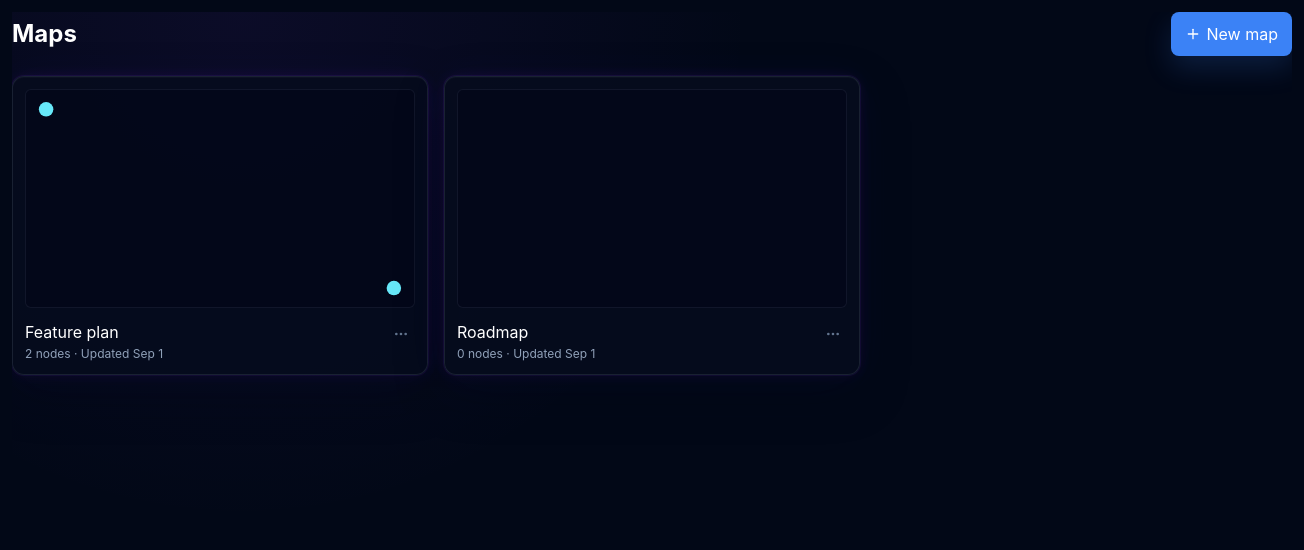
Test: MapLibraryPage › clears a stale action error once a later mutation succeeds
Expected: the button "Feature plan" is shown, [25,320,119,344]
Click the button named "Map actions for Feature plan".
click(401, 334)  # box [387,320,415,348]
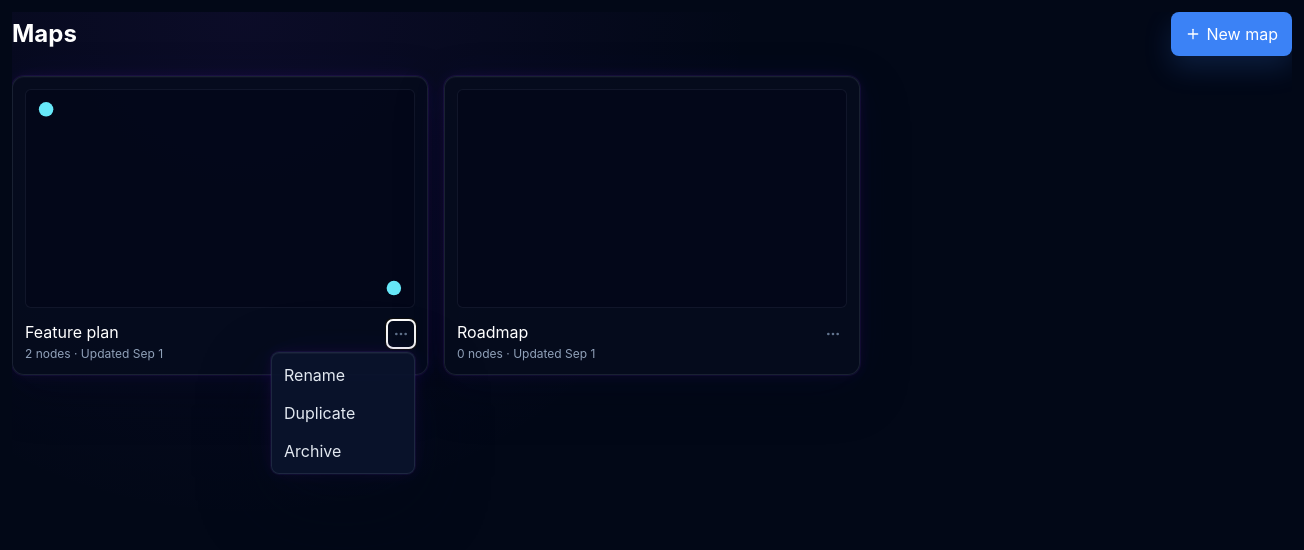
Click the menu item "Rename".
click(343, 375)  # box [276,357,410,393]
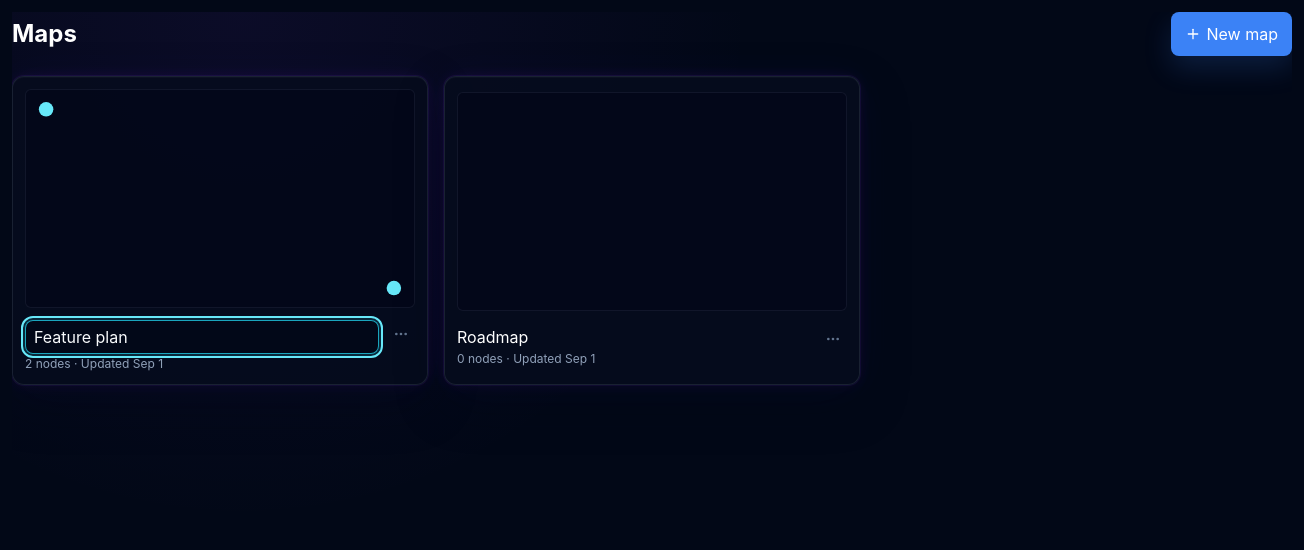
Replace the text in the field named "Map title" with "Renamed" at (202, 337), box [25,320,379,354]
Then press Enter
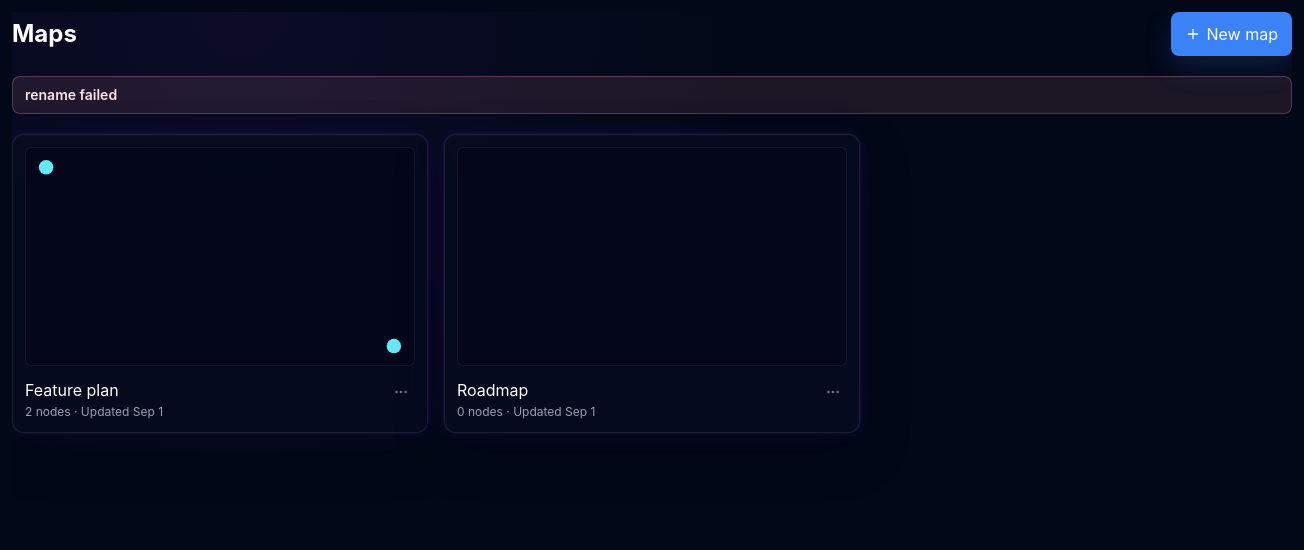
Result: the text "rename failed" is shown at [12,76,1292,114]
Click the button named "Map actions for Roadmap".
click(833, 392)  # box [819,378,847,406]
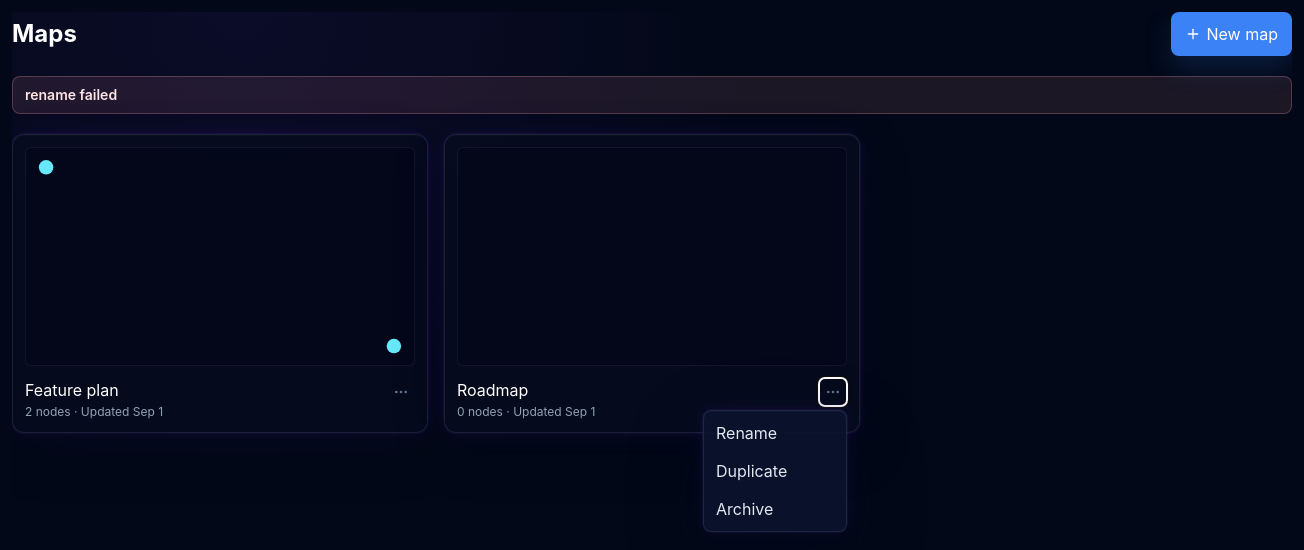
Click the menu item "Archive".
click(775, 509)  # box [708,491,842,527]
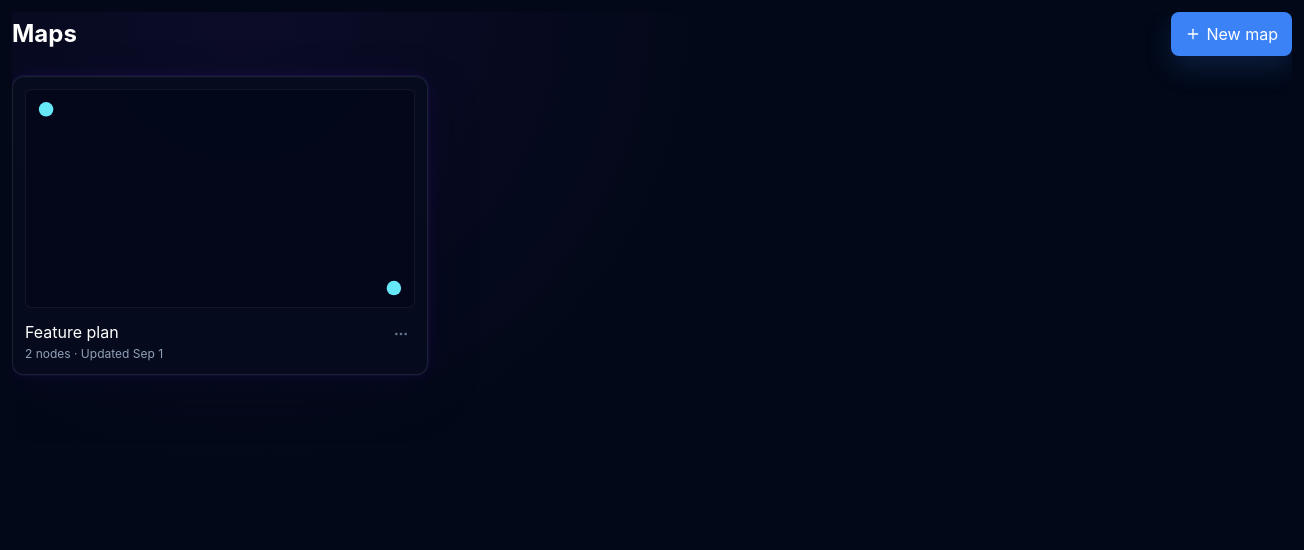
Result: the button "Roadmap" is gone
Result: the text "rename failed" is gone
